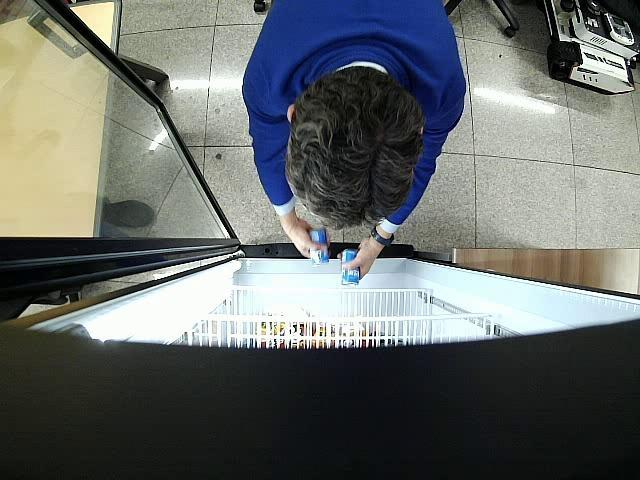15_letsbe: (307, 227, 329, 266), (342, 249, 359, 287)
